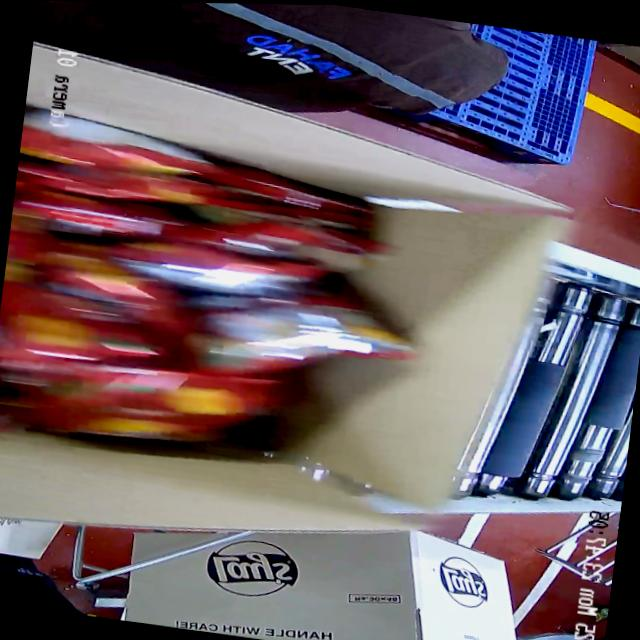MASALA: (0, 100, 425, 475)
